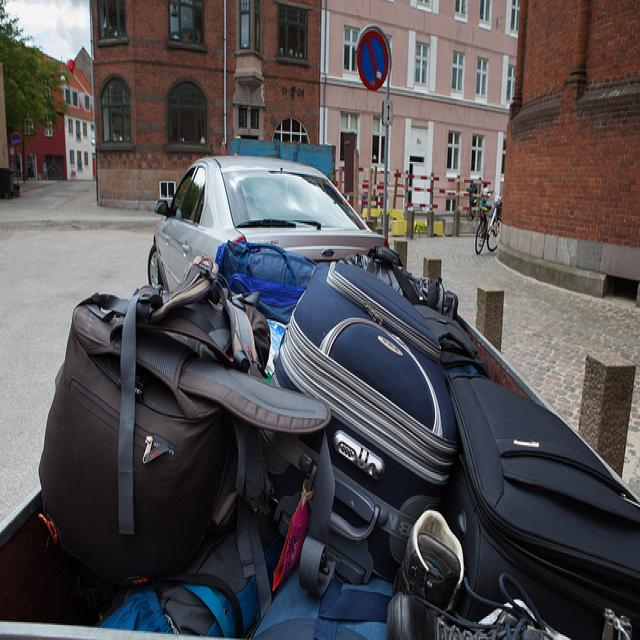Vehicle: (146, 153, 390, 292)
